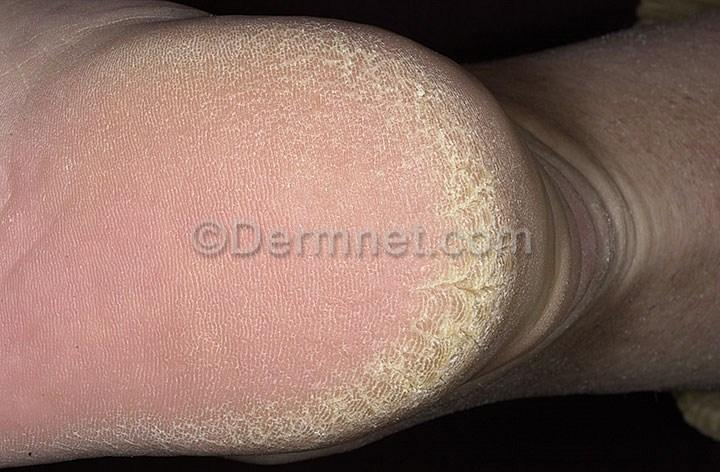Eczema: (215, 35, 421, 170), (52, 28, 227, 146), (319, 301, 450, 427), (170, 362, 343, 448), (411, 90, 524, 217), (32, 361, 169, 459), (451, 256, 509, 359)
